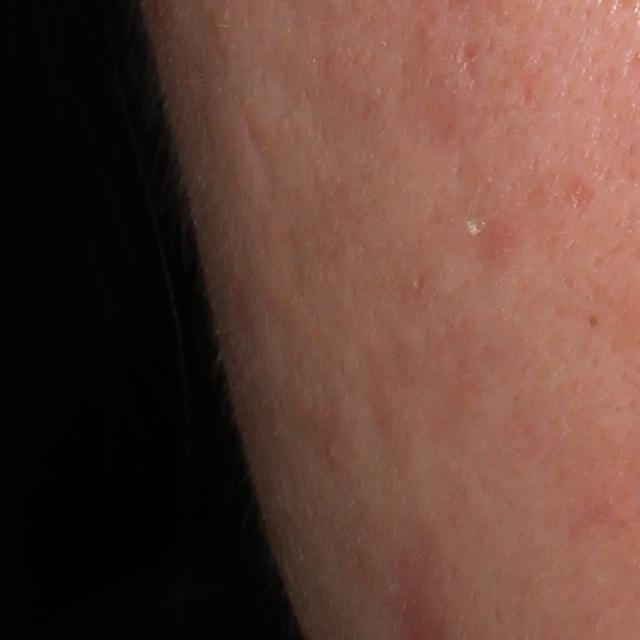atrophic_scar: (241, 109, 280, 191), (563, 174, 599, 221), (453, 37, 484, 91)
